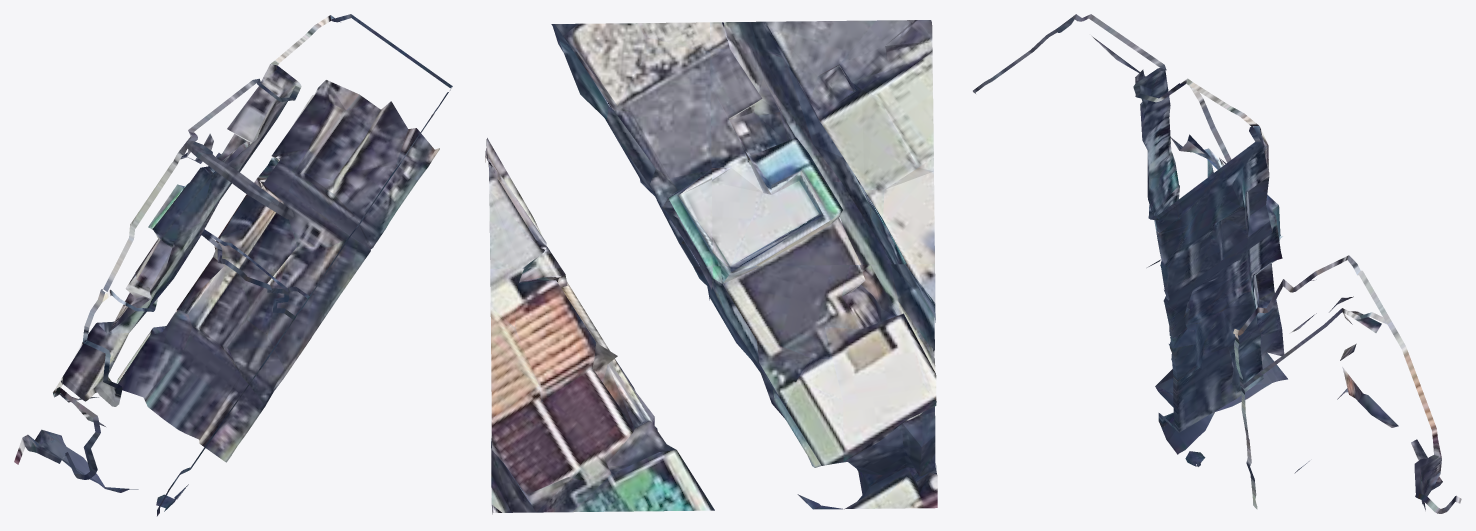
3 views of the same model, side by side, from view 1: azimuth 30°, elevation 25°; view 2: azimuth 150°, elevation 25°; view 3: azimuth 270°, elevation 25° (orthographic). The views are drawn at different scales.
Bounding box in the file's own units: 41.63 × 40.06 × 40.77.
2 materials, 2 textured.
